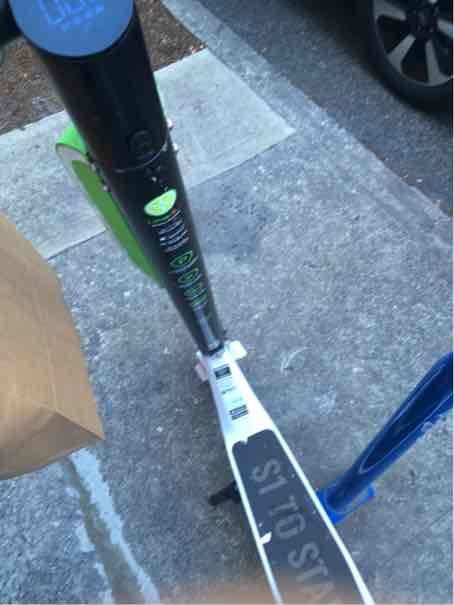scooter: (7, 8, 437, 605)
